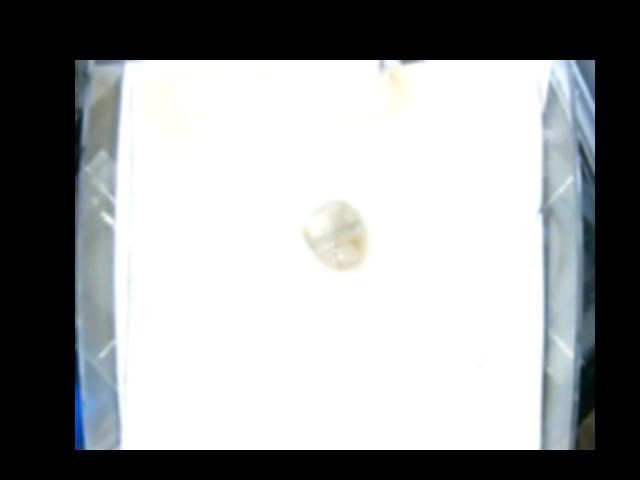Pebble: (302, 198, 365, 268)
